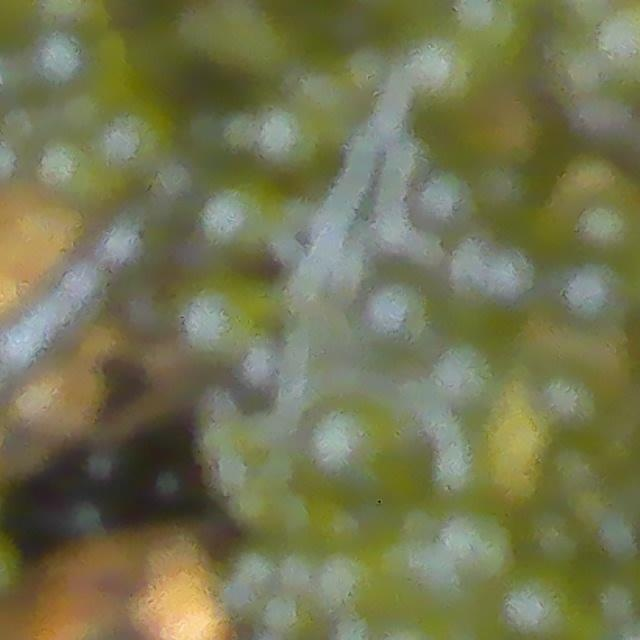SeaGrape: (497, 556, 590, 640), (435, 503, 520, 587), (457, 235, 539, 313), (574, 177, 640, 264), (453, 0, 539, 66), (558, 257, 632, 330), (364, 280, 433, 349), (184, 285, 251, 355), (197, 193, 263, 260), (525, 504, 589, 570), (262, 104, 319, 170), (31, 28, 89, 86)
